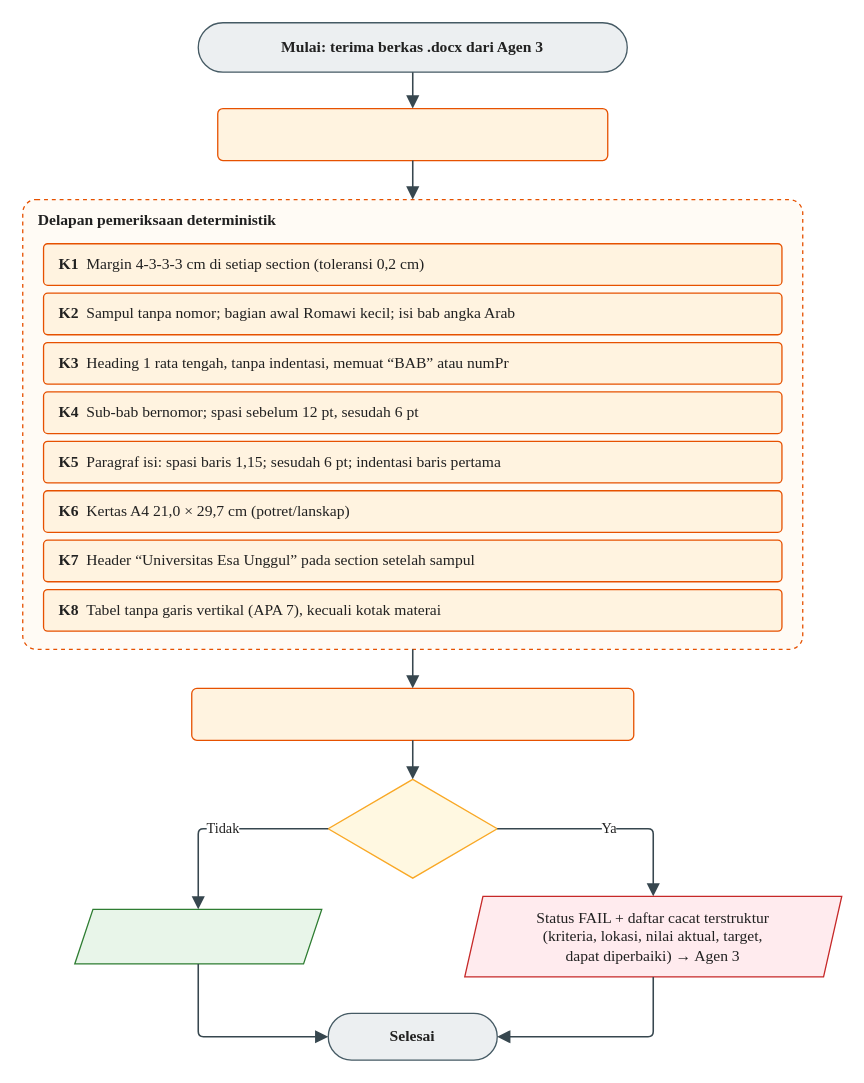
Some shapes in this 864 by 1083 pixel diagram are drawn without their labels. The shapes that lost their labels are listed below. From the top down, each one's centre as x and y in pixels, then its label:
At point (412, 134): "Buka berkas dengan python-docx".
At point (412, 713): "Skor = jumlah kriteria lolos / 8 × 100%".
At point (412, 828): "Ada cacat?".
At point (197, 936): "Status PASS".
